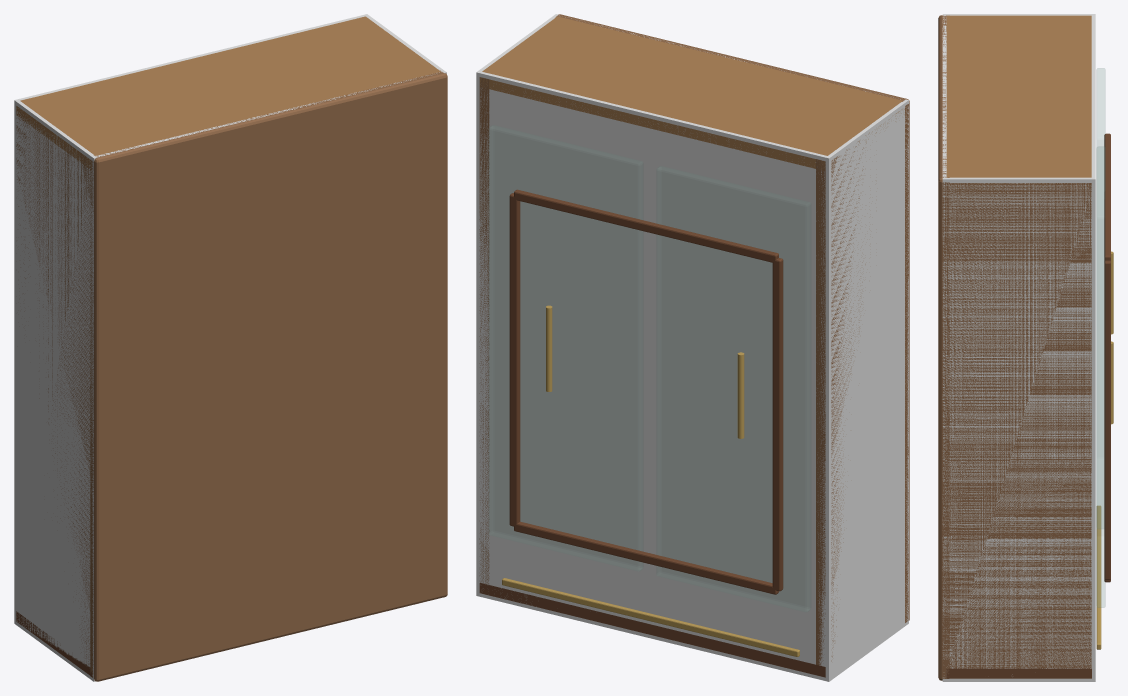
File: luxury.glb
The picture shows the model from 3 angles, left to right: view 1: azimuth 30°, elevation 25°; view 2: azimuth 150°, elevation 25°; view 3: azimuth 270°, elevation 25°; orthographic projection. The views are drawn at different scales.
Visible parts, largest first — view 1: Cabinet_Back.003, COL_OFFICE_CABINETS_LUXURY, Cabinet_Top.003, Cabinet_Side.006, Cabinet_Bottom.003; view 2: COL_OFFICE_CABINETS_LUXURY, Cabinet_Door_-1.003, Cabinet_Door_1.003, Cabinet_Top.003, Cabinet_Side.006, Cabinet_TrimLeft.001, Cabinet_TrimRight.001, Cabinet_Bottom.003, Cabinet_Back.003, Cabinet_Side.007, Cabinet_TrimTop.001, Cabinet_TrimBottom.001 (+2 smaller); view 3: Cabinet_Side.007, COL_OFFICE_CABINETS_LUXURY, Cabinet_Top.003, Cabinet_Back.003, Cabinet_Door_1.003, Cabinet_Door_-1.003, Cabinet_TrimRight.001, Cabinet_Bottom.003, Cabinet_TrimTop.001, Cabinet_BrassToeKick.
Part boxes in pixels (box(x1,y1,x2,y2)): Cabinet_Back.003: box(90, 70, 447, 681); COL_OFFICE_CABINETS_LUXURY: box(14, 14, 446, 681); Cabinet_Top.003: box(16, 16, 440, 170); Cabinet_Side.006: box(16, 109, 91, 664); Cabinet_Bottom.003: box(16, 611, 91, 676); COL_OFFICE_CABINETS_LUXURY: box(476, 14, 908, 681); Cabinet_Door_-1.003: box(656, 166, 810, 611); Cabinet_Door_1.003: box(489, 125, 643, 571); Cabinet_Top.003: box(480, 16, 904, 170); Cabinet_Side.006: box(816, 141, 866, 665); Cabinet_TrimLeft.001: box(772, 258, 783, 591); Cabinet_TrimRight.001: box(509, 193, 520, 526); Cabinet_Bottom.003: box(479, 583, 825, 677); Cabinet_Back.003: box(555, 14, 909, 622); Cabinet_Side.007: box(479, 42, 521, 584); Cabinet_TrimTop.001: box(514, 189, 778, 262); Cabinet_TrimBottom.001: box(514, 521, 778, 594); Cabinet_Side.007: box(946, 183, 1091, 668); COL_OFFICE_CABINETS_LUXURY: box(942, 14, 1095, 681); Cabinet_Top.003: box(946, 15, 1091, 192); Cabinet_Back.003: box(938, 15, 949, 680); Cabinet_Door_1.003: box(1096, 146, 1105, 607); Cabinet_Door_-1.003: box(1096, 68, 1105, 528); Cabinet_TrimRight.001: box(1104, 260, 1110, 579); Cabinet_Bottom.003: box(946, 668, 1091, 678); Cabinet_TrimTop.001: box(1104, 133, 1110, 260); Cabinet_BrassToeKick: box(1096, 505, 1101, 649).
Size of the model in its own units: 1.47 by 2.09 by 0.659.
